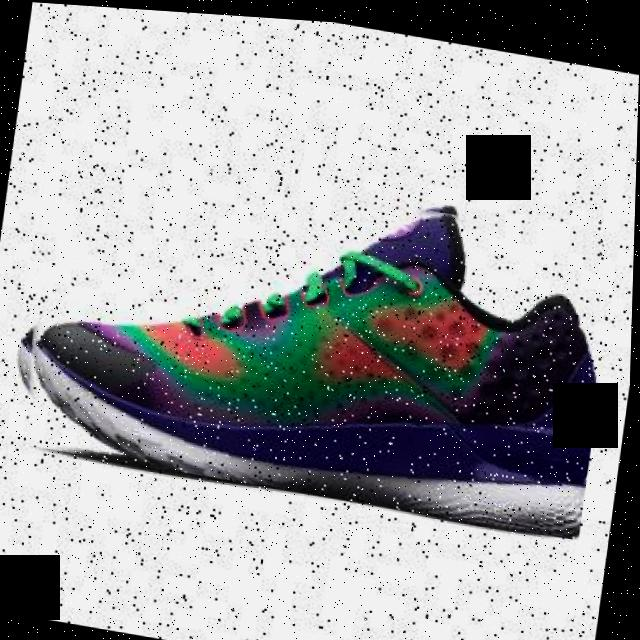shoe: (4, 132, 622, 533)
